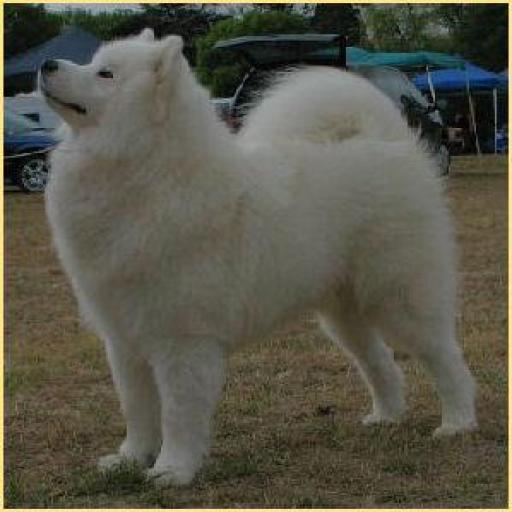dog_face: (36, 29, 180, 140)
